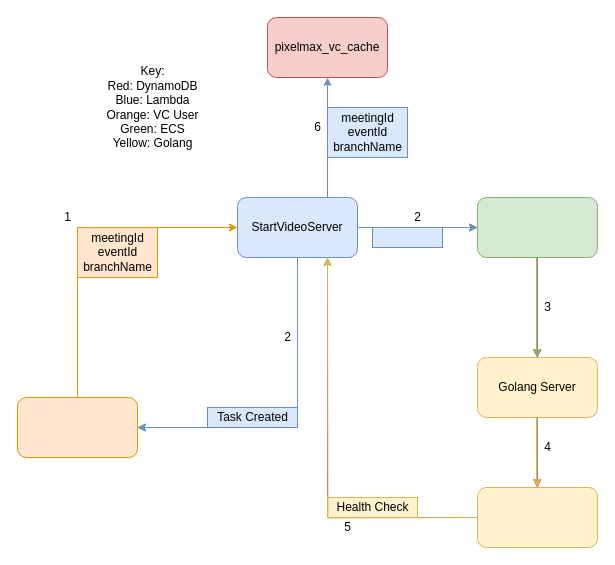
The diagram is 615 pixels wide and 565 high, and some of its shapes have lost their labels. Each missing label, with the centre of its shape:
"Client" belongs at (77,427).
"Connects to WS" belongs at (537,517).
"ECS" belongs at (537,227).
"Run Task" belongs at (407,237).
